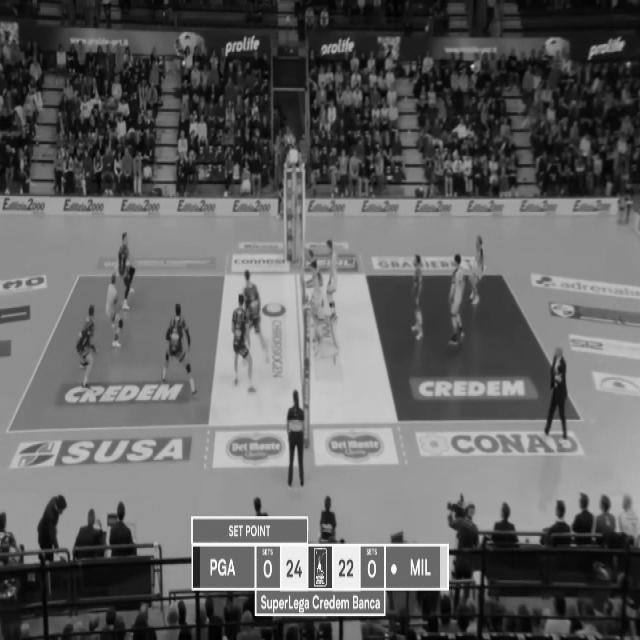volleyball court: (8, 270, 580, 432)
